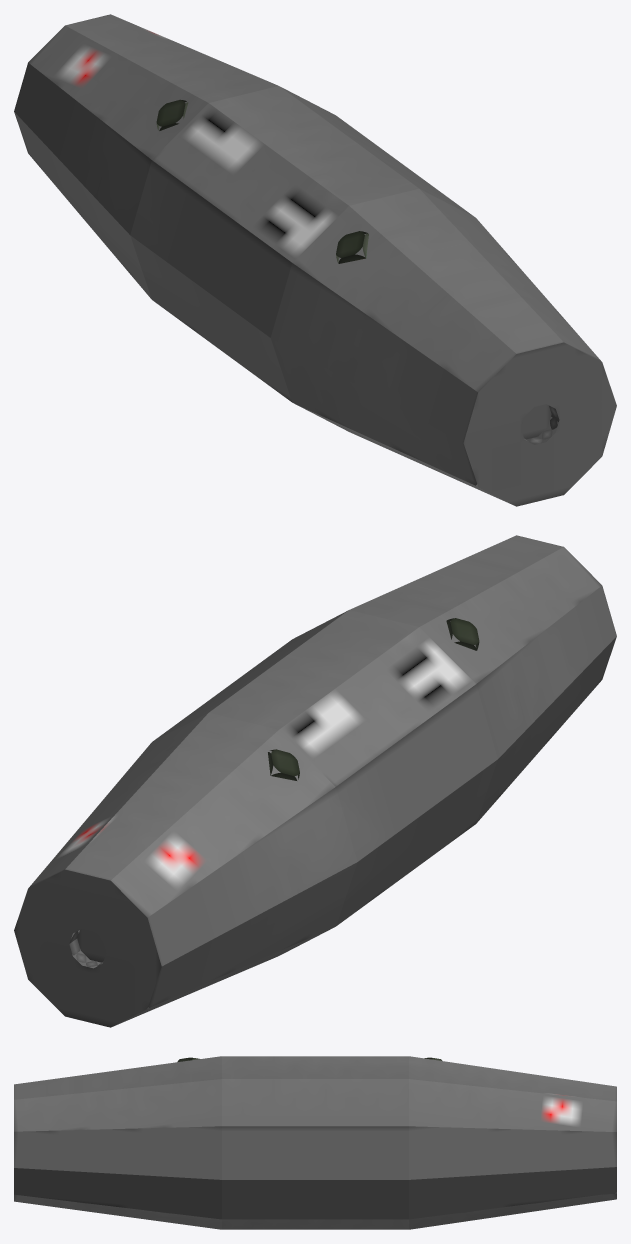
The model's file is mark77.obj.
3 views of the same model, one above another, from view 1: azimuth 30°, elevation 25°; view 2: azimuth 150°, elevation 25°; view 3: azimuth 270°, elevation 25° (orthographic). The views are drawn at different scales.
Parts seen in each view (by area): view 1: cylinder, cube, cube1; view 2: cylinder, cube1, cube; view 3: cylinder.
Part boxes in pixels (<box>): cylinder: <box>14,14,616,506</box>; cube: <box>336,231,368,263</box>; cube1: <box>156,99,188,130</box>; cylinder: <box>14,535,616,1027</box>; cube1: <box>268,749,299,780</box>; cube: <box>446,618,479,650</box>; cylinder: <box>14,1056,616,1229</box>.
Bounding box in the file's own units: 1.05 × 1 × 3.62.
